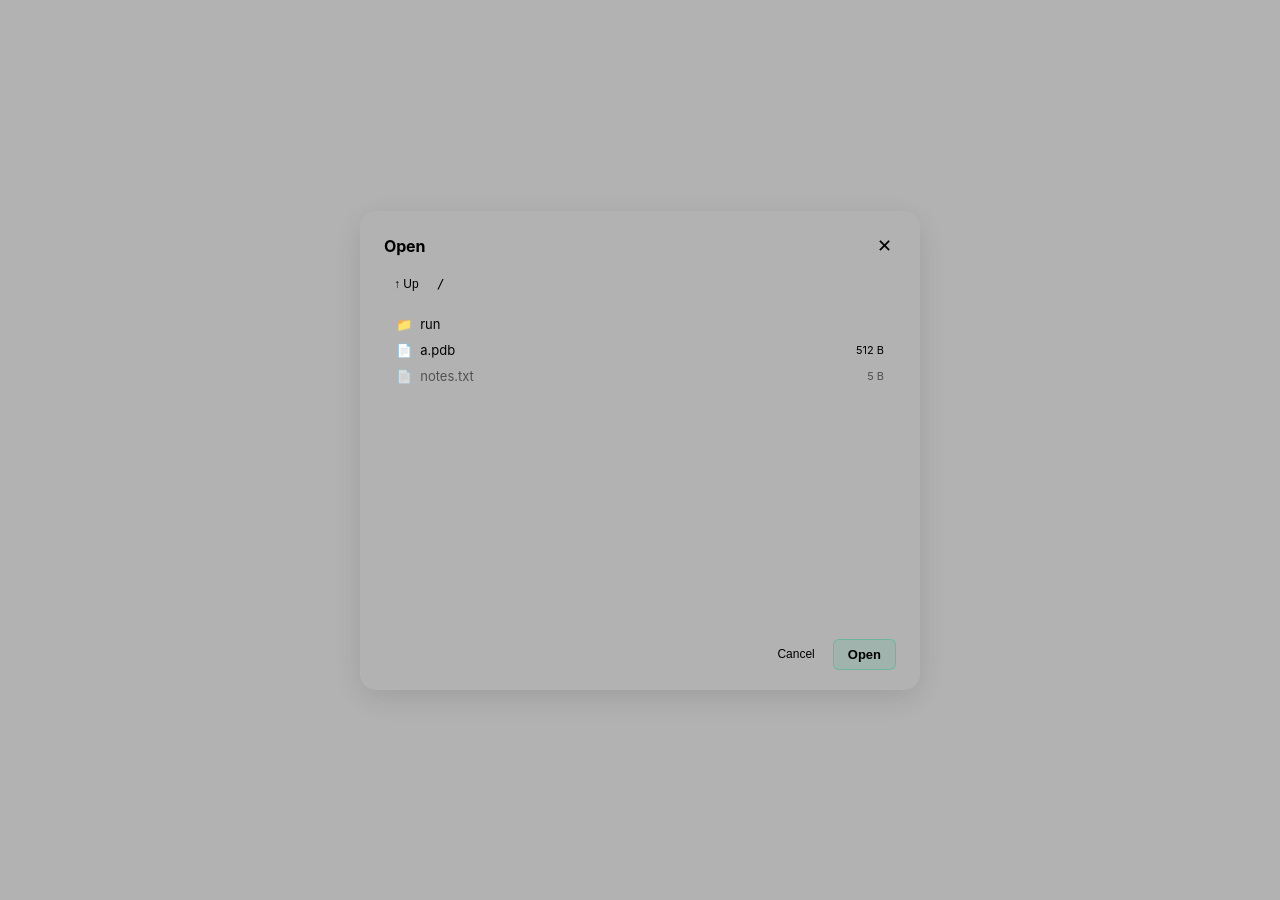
Scenario: RemoteFileDialog › shows a read error and stays open
Double-click the button with test id "remote-file-dialog-entry" showing "📄 a.pdb 512 B" at x=438, y=350, box [388,336,892,362]
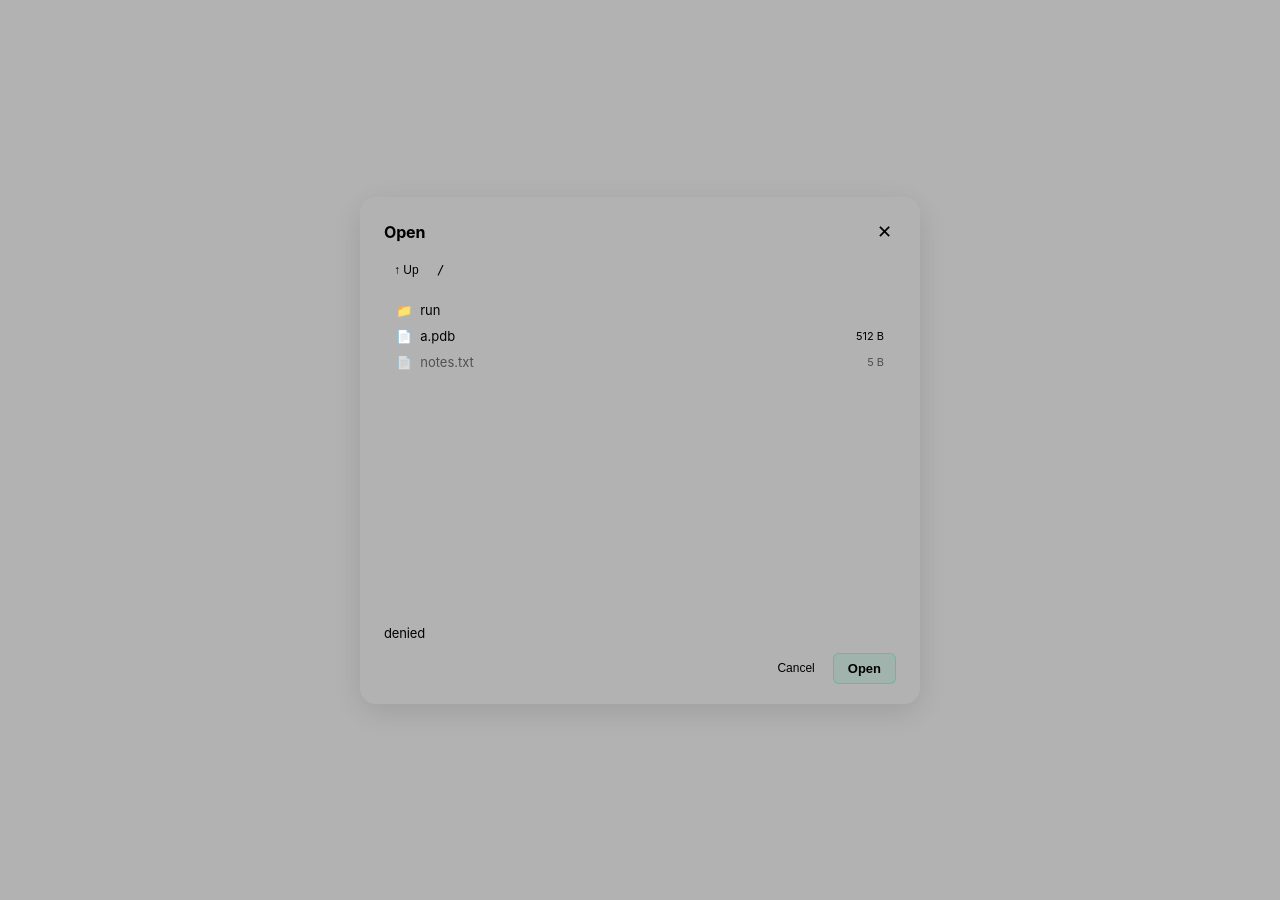
Expected: the message with test id "remote-file-dialog-error" reads "denied", [384,624,425,640]
